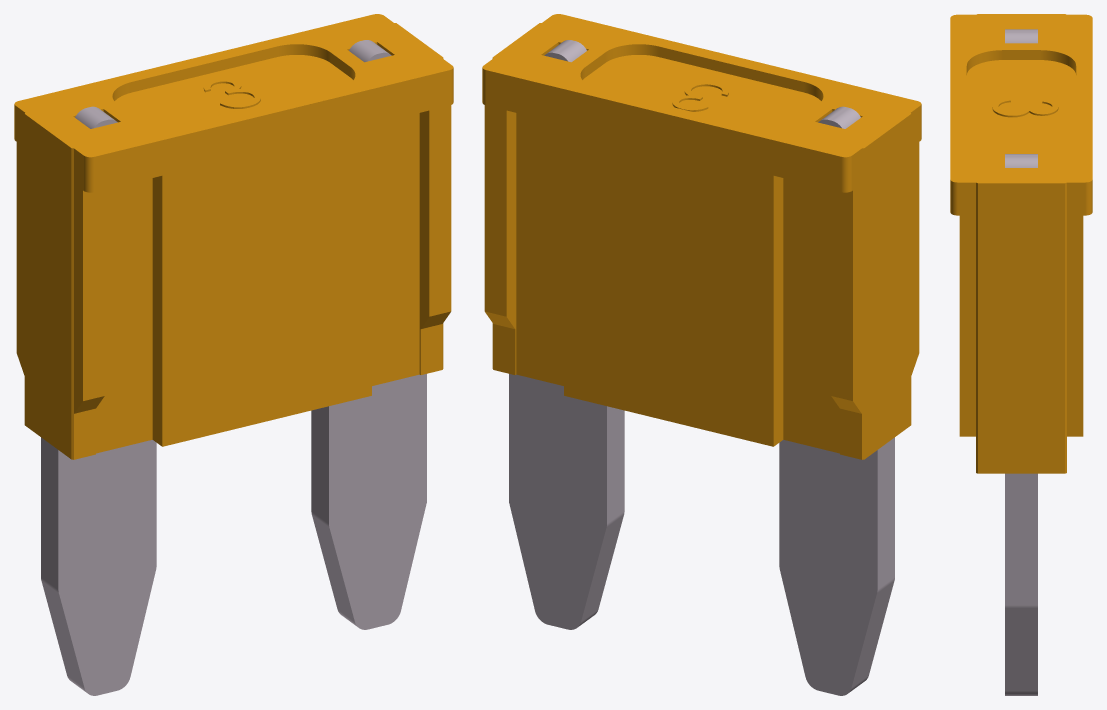
File: fuse_sekring_REV1.glb
The picture shows the model from 3 angles, left to right: view 1: azimuth 30°, elevation 25°; view 2: azimuth 150°, elevation 25°; view 3: azimuth 270°, elevation 25°; orthographic projection. The views are drawn at different scales.
Parts seen in each view (by area): view 1: fuse_Body2, Fuse_leg; view 2: fuse_Body2, Fuse_leg; view 3: fuse_Body2, Fuse_leg.
Boxes of the visible parts, x1,y1,x2,y2 form: fuse_Body2: [14, 14, 453, 459]; Fuse_leg: [41, 40, 426, 695]; fuse_Body2: [482, 14, 921, 459]; Fuse_leg: [509, 40, 894, 695]; fuse_Body2: [950, 14, 1092, 473]; Fuse_leg: [1005, 29, 1037, 695].
Size of the model in its own units: 0.433 by 0.6378 by 0.1536.
